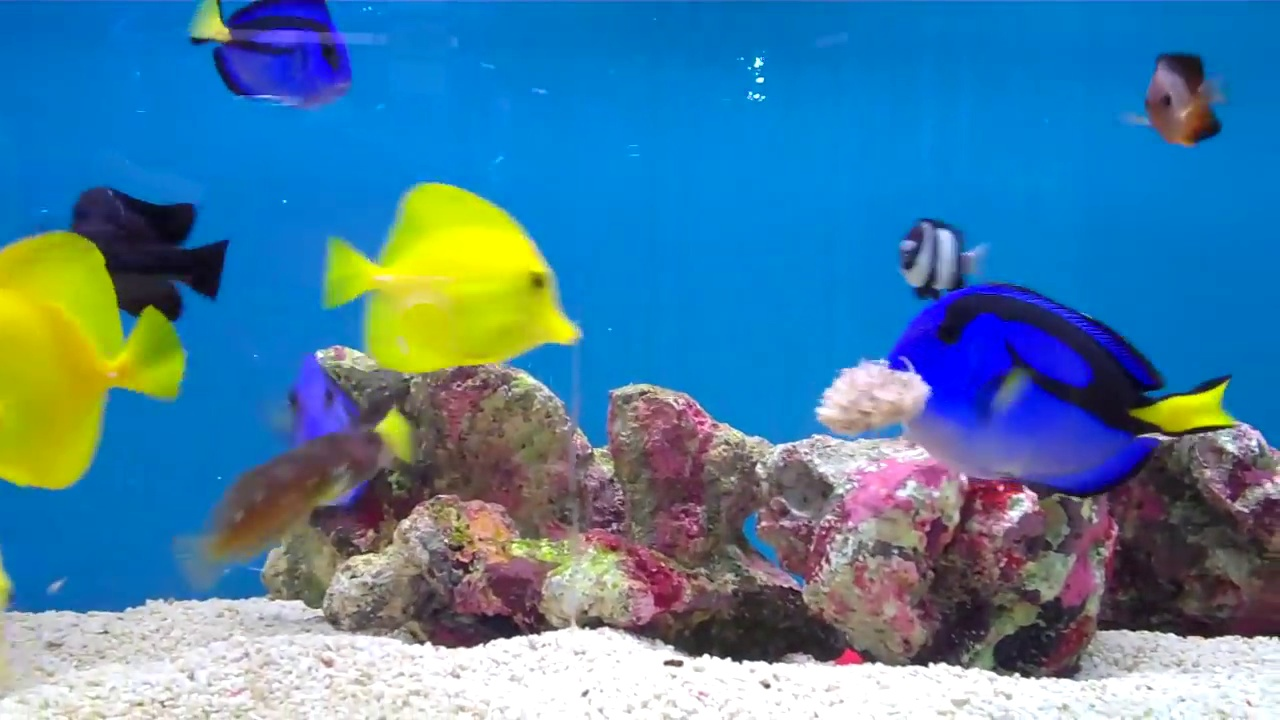blue tang surgeonfish: (879, 271, 1247, 493), (189, 0, 371, 127)
saddle butterfly fish: (312, 156, 602, 390)
